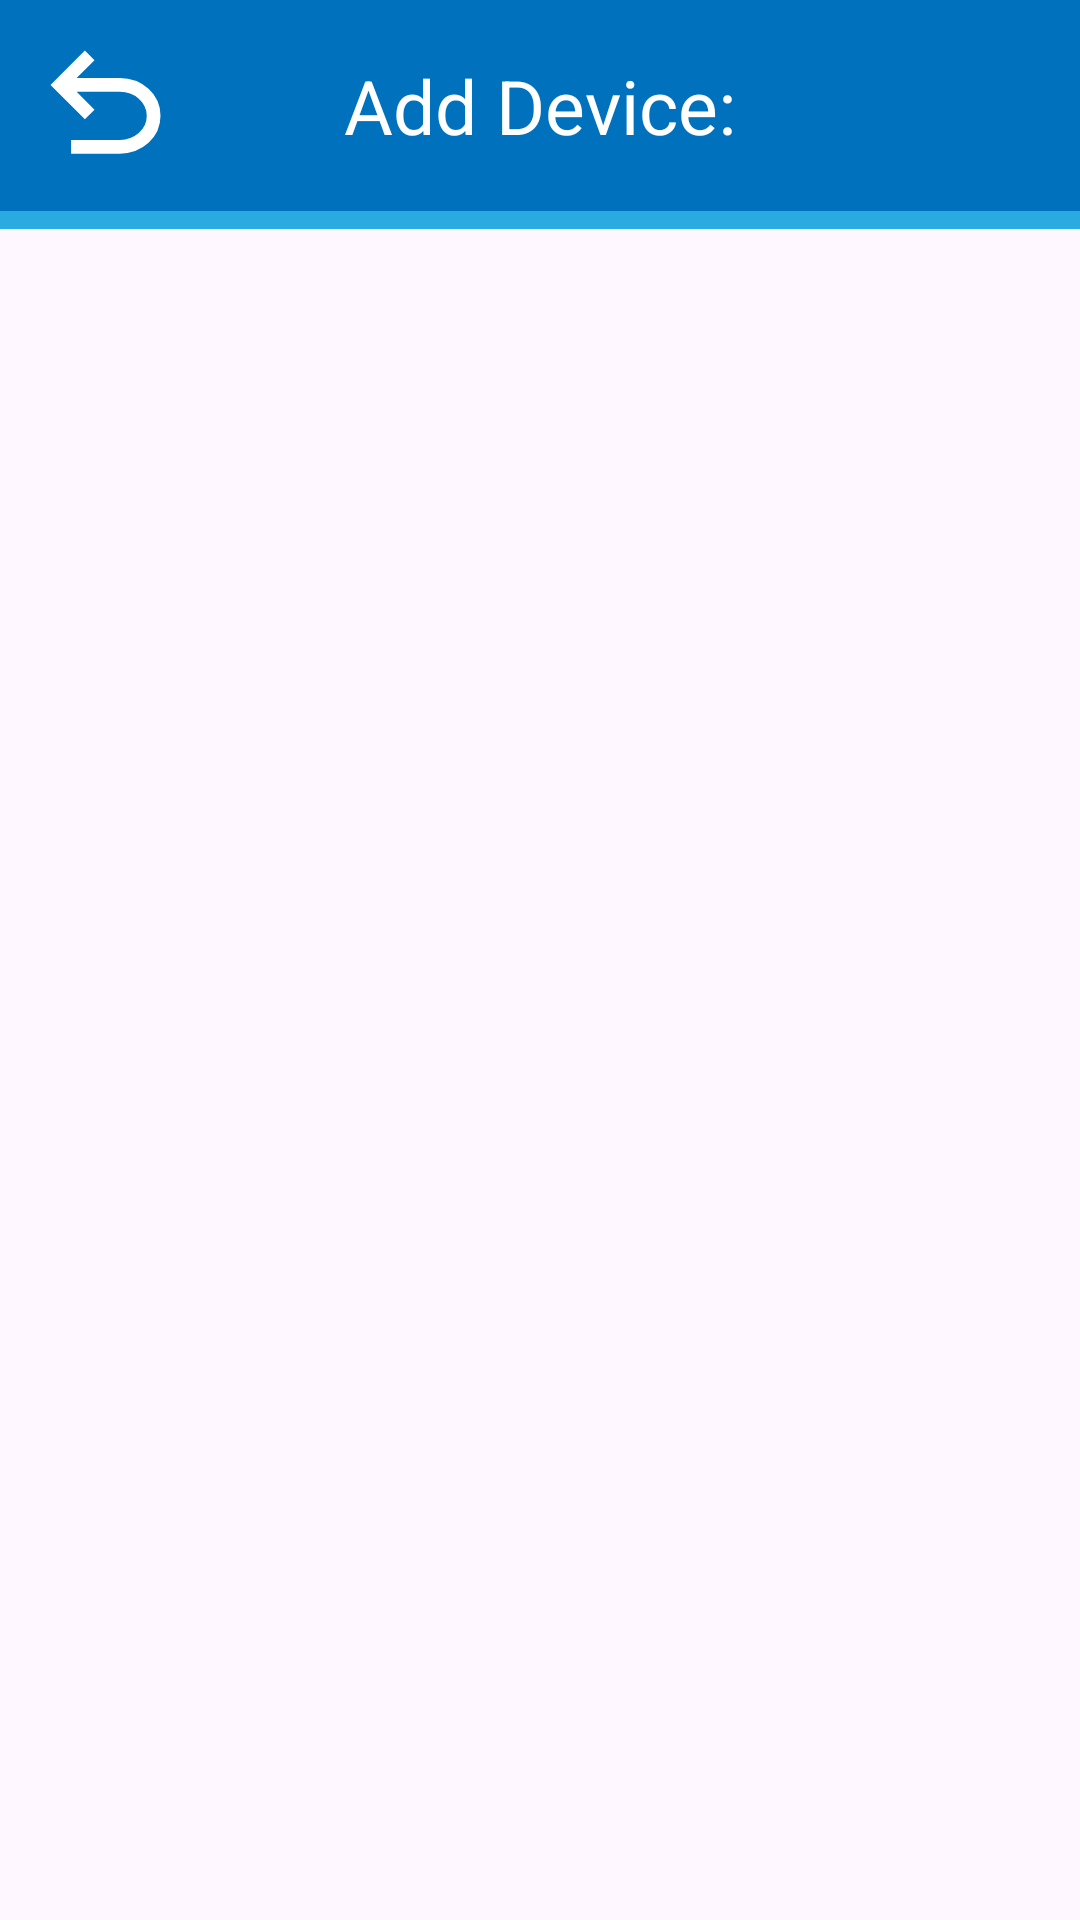

Where icons sit on this 1080w x 1920h app screen, as bbox(x1, y1, x2, y2):
back: bbox(50, 50, 161, 154)
